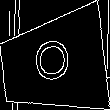O_W: (31, 39, 76, 89)
